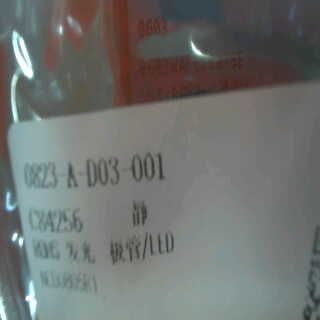LED: (62, 225, 187, 273)
